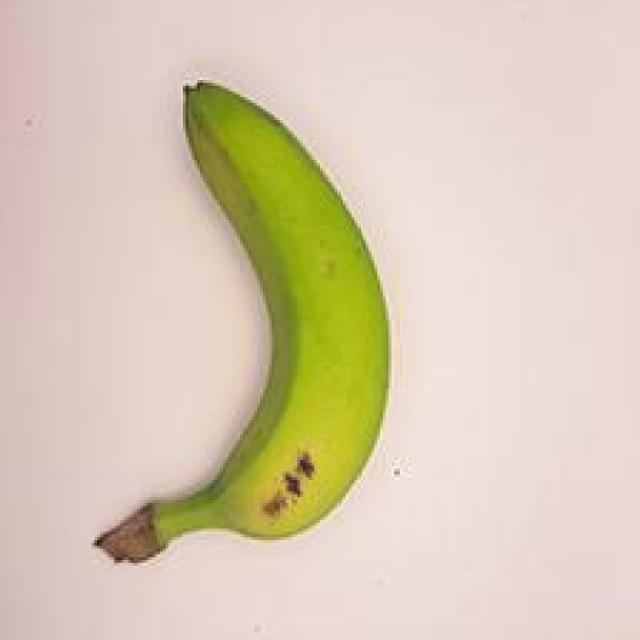Unripe: (86, 64, 395, 585)
